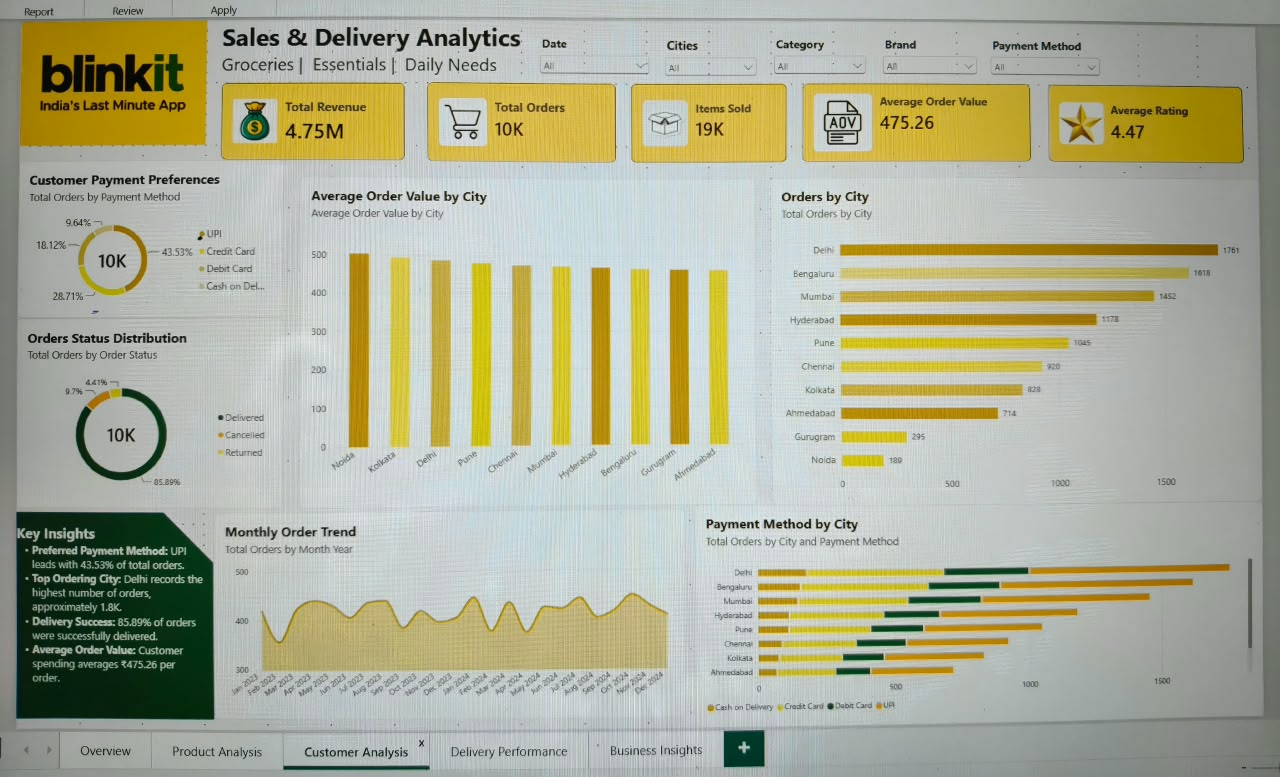

This screenshot's page, from the dashboard's own definition file:
{"tool":"powerbi","page":{"name":"Customer Analysis","canvas":[1920,1080],"ordinal":2},"visuals":[{"type":"donutChart","title":"Customer Payment Preferences","fields":{"Category":["Orders.Payment Method"],"Y":["Calendar1.Total Orders"]},"box":[0,216,408,240],"z":0},{"type":"clusteredBarChart","title":"Orders by City","fields":{"Category":["Orders.City"],"Y":["Calendar1.Total Orders"]},"box":[1152,240,768,504],"z":1},{"type":"clusteredColumnChart","title":"Average Order Value by City","fields":{"Category":["Orders.City"],"Y":["Calendar1.Average Order Value"]},"box":[432,240,696,504],"z":2},{"type":"donutChart","title":"Orders Status Distribution","fields":{"Category":["Orders.Order Status"],"Y":["Calendar1.Total Orders"]},"box":[0,456,408,288],"z":3},{"type":"lineChart","title":"Monthly Order Trend","fields":{"Category":["Calendar1.Month Year"],"Y":["Calendar1.Total Orders"]},"box":[303.5,750,713.4,314],"z":4},{"type":"barChart","title":"Payment Method by City","fields":{"Category":["Orders.City"],"Y":["Calendar1.Total Orders"],"Series":["Orders.Payment Method"]},"box":[1032,744,888,336],"z":5},{"type":"image","box":[0,0,287.8,191.9],"z":9},{"type":"cardVisual","fields":{"Data":["Calendar1.Total Revenue"]},"box":[312,96,280.8,120.3],"z":10},{"type":"cardVisual","fields":{"Data":["Calendar1.Total Orders"]},"box":[624,96,288,120],"z":11},{"type":"cardVisual","fields":{"Data":["Calendar1.Items Sold"]},"box":[936,96,240.7,120.3],"z":12},{"type":"cardVisual","fields":{"Data":["Calendar1.Average Order Value"]},"box":[1200,96,354.1,120.3],"z":13},{"type":"cardVisual","fields":{"Data":["Calendar1.Average Rating"]},"box":[1584,96,314,120.3],"z":14},{"type":"textbox","box":[312,0,576,96],"z":15},{"type":"textbox","box":[312,48,528,96],"z":16},{"type":"slicer","fields":{"Values":["Calendar1.Date"]},"box":[792,24,177.4,69.4],"z":17},{"type":"slicer","fields":{"Values":["Cities.City"]},"box":[984,24,151.6,69.4],"z":18},{"type":"slicer","fields":{"Values":["Orders.Category"]},"box":[1152,24,151.6,69.4],"z":19},{"type":"slicer","fields":{"Values":["Orders.Brand"]},"box":[1320,24,156.5,72.6],"z":20},{"type":"slicer","fields":{"Values":["Orders.Payment Method"]},"box":[1488,24,182.3,64.5],"z":21},{"type":"shape","box":[0,750,303,314],"z":22},{"type":"textbox","box":[0,768,288,288],"z":23}]}

Visuals, with their boxes on the page's 1920x1080 design canvas (x1, y1, x2, y2). These are canvas units, not pixel positions in the 1280x777 screenshot, which may show the page scaled, cropped or inside an application window:
"Customer Payment Preferences" donutChart: BBox(0, 216, 408, 456)
"Orders by City" clusteredBarChart: BBox(1152, 240, 1920, 744)
"Average Order Value by City" clusteredColumnChart: BBox(432, 240, 1128, 744)
"Orders Status Distribution" donutChart: BBox(0, 456, 408, 744)
"Monthly Order Trend" lineChart: BBox(304, 750, 1017, 1064)
"Payment Method by City" barChart: BBox(1032, 744, 1920, 1080)
image: BBox(0, 0, 288, 192)
cardVisual - Calendar1.Total Revenue: BBox(312, 96, 593, 216)
cardVisual - Calendar1.Total Orders: BBox(624, 96, 912, 216)
cardVisual - Calendar1.Items Sold: BBox(936, 96, 1177, 216)
cardVisual - Calendar1.Average Order Value: BBox(1200, 96, 1554, 216)
cardVisual - Calendar1.Average Rating: BBox(1584, 96, 1898, 216)
textbox: BBox(312, 0, 888, 96)
textbox: BBox(312, 48, 840, 144)
slicer - Calendar1.Date: BBox(792, 24, 969, 93)
slicer - Cities.City: BBox(984, 24, 1136, 93)
slicer - Orders.Category: BBox(1152, 24, 1304, 93)
slicer - Orders.Brand: BBox(1320, 24, 1476, 97)
slicer - Orders.Payment Method: BBox(1488, 24, 1670, 88)
shape: BBox(0, 750, 303, 1064)
textbox: BBox(0, 768, 288, 1056)
